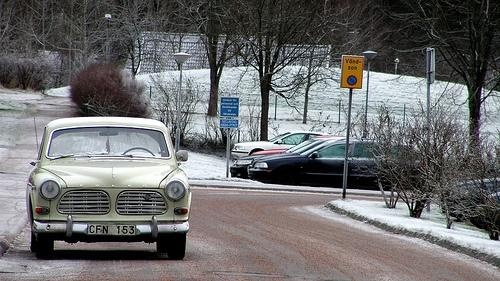car: (27, 118, 193, 259), (249, 138, 426, 189), (231, 131, 330, 162)
